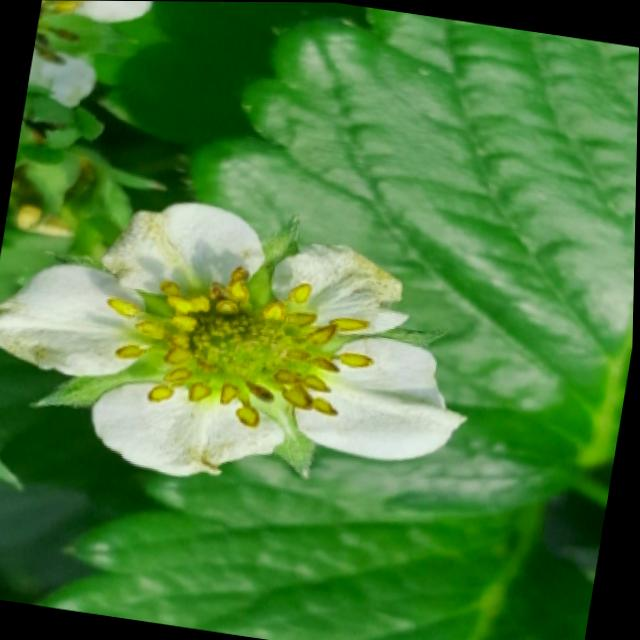Blossom Blight: (103, 262, 378, 431)
